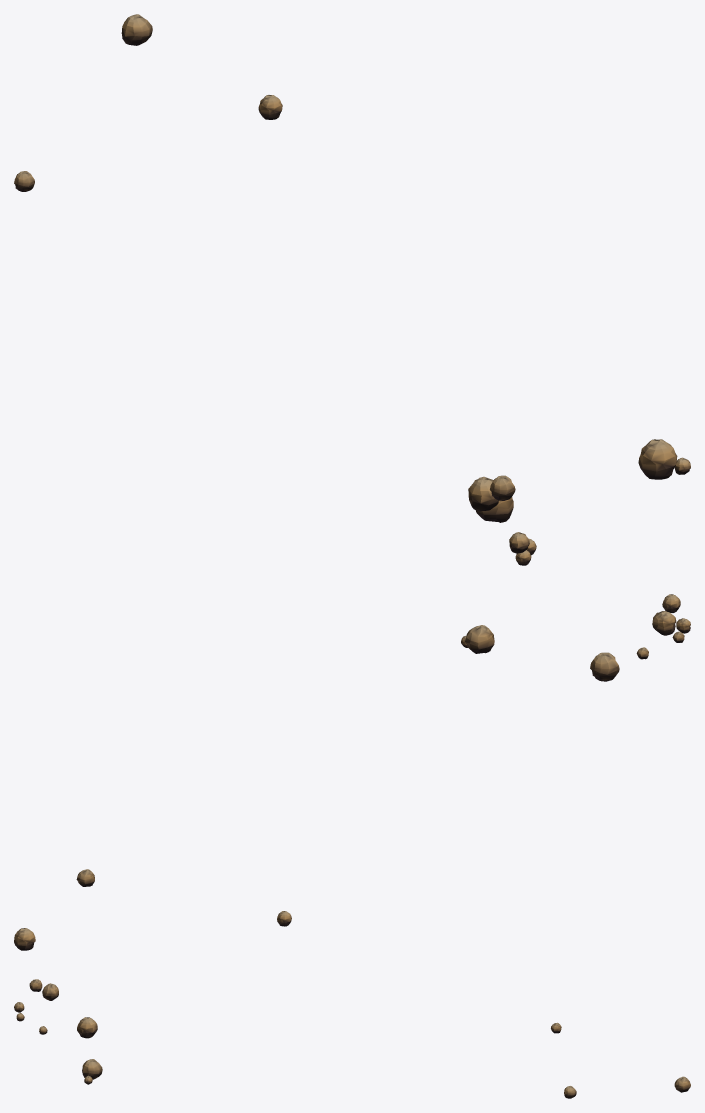
Rendered from level2BoulderBrkn_grp 1.fbx.
The picture shows the model from 3 angles, top to bottom: view 1: azimuth 30°, elevation 25°; view 2: azimuth 150°, elevation 25°; view 3: azimuth 270°, elevation 25°; orthographic projection. The views are drawn at different scales.
Bounding box in the file's own units: 788 × 218 × 2848.
